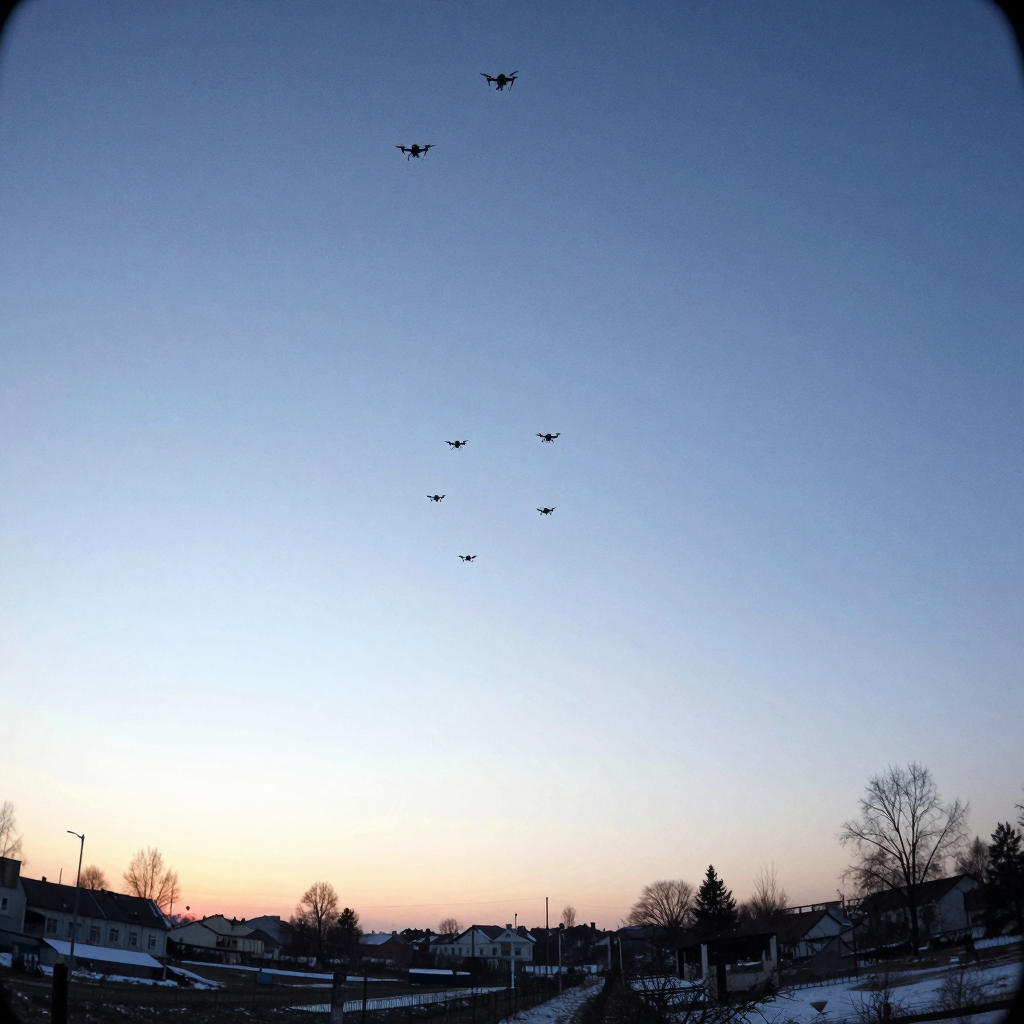drone: (480, 73, 520, 91), (395, 144, 436, 161), (535, 432, 561, 443), (444, 440, 470, 451), (536, 507, 557, 516), (426, 494, 446, 503), (458, 555, 478, 563)
